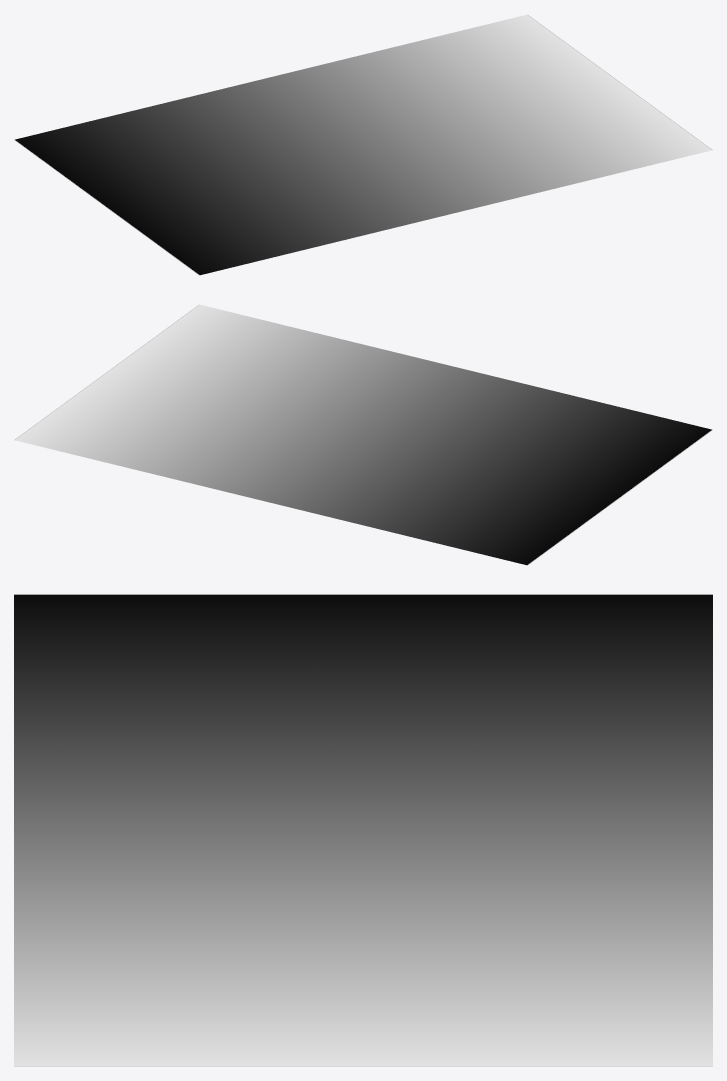
The model's file is terrain.obj.
The picture shows the model from 3 angles, top to bottom: view 1: azimuth 30°, elevation 25°; view 2: azimuth 150°, elevation 25°; view 3: azimuth 270°, elevation 25°; orthographic projection. The views are drawn at different scales.
Bounding box in the file's own units: 1.6 × 0 × 1.
1 material, 1 textured.
